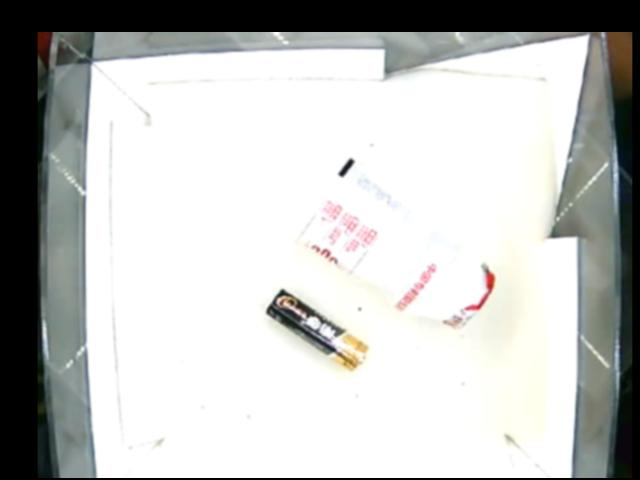Battery: (268, 288, 368, 368)
Bottle: (295, 151, 496, 331)
